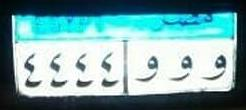4: (95, 51, 120, 91), (72, 51, 94, 93), (21, 50, 44, 89), (47, 50, 69, 90)
waw: (164, 50, 195, 88), (131, 52, 159, 89), (199, 51, 230, 84)
